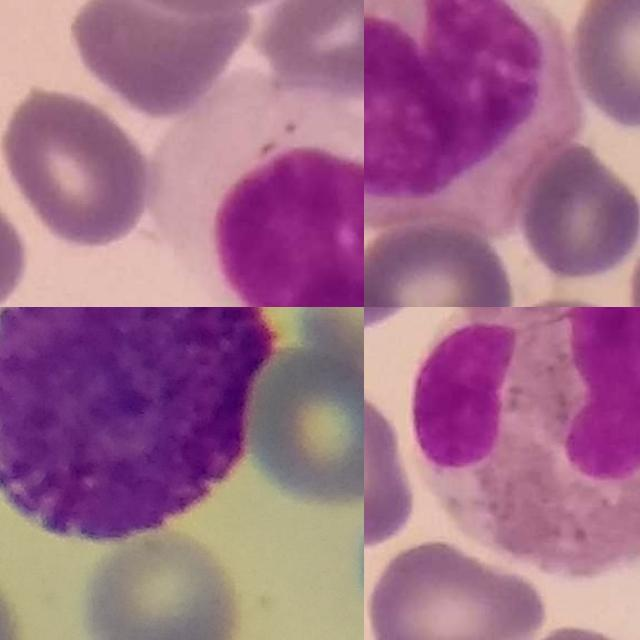Basophil: (0, 307, 274, 544)
Eosinophil: (405, 307, 640, 578)
Lymphocyte: (158, 69, 364, 307)
Monocyte: (364, 0, 580, 231)
